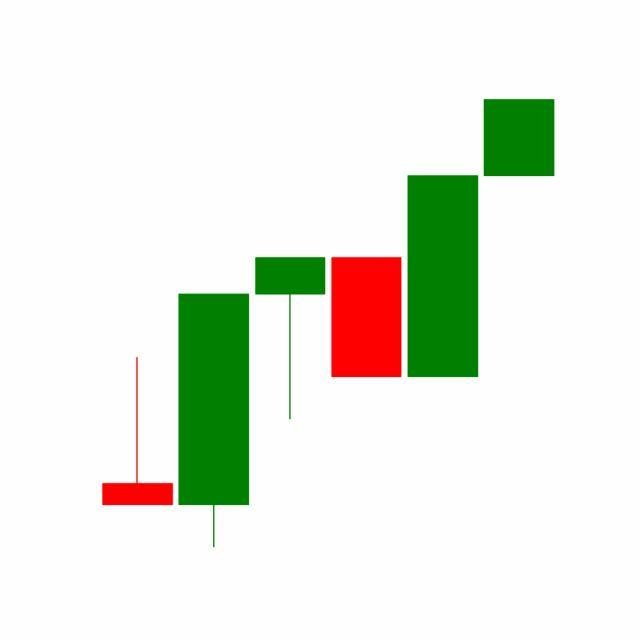Marubozu: (404, 174, 482, 380)
